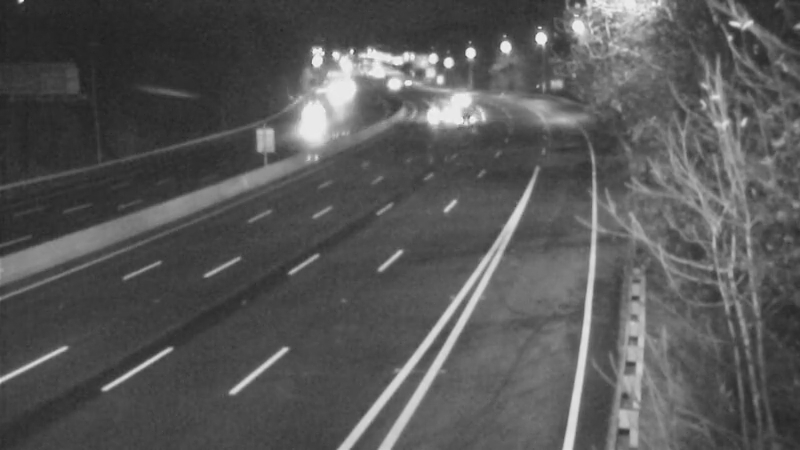vehicle: (427, 71, 477, 121), (408, 86, 458, 136), (441, 96, 491, 146), (289, 93, 339, 143)
